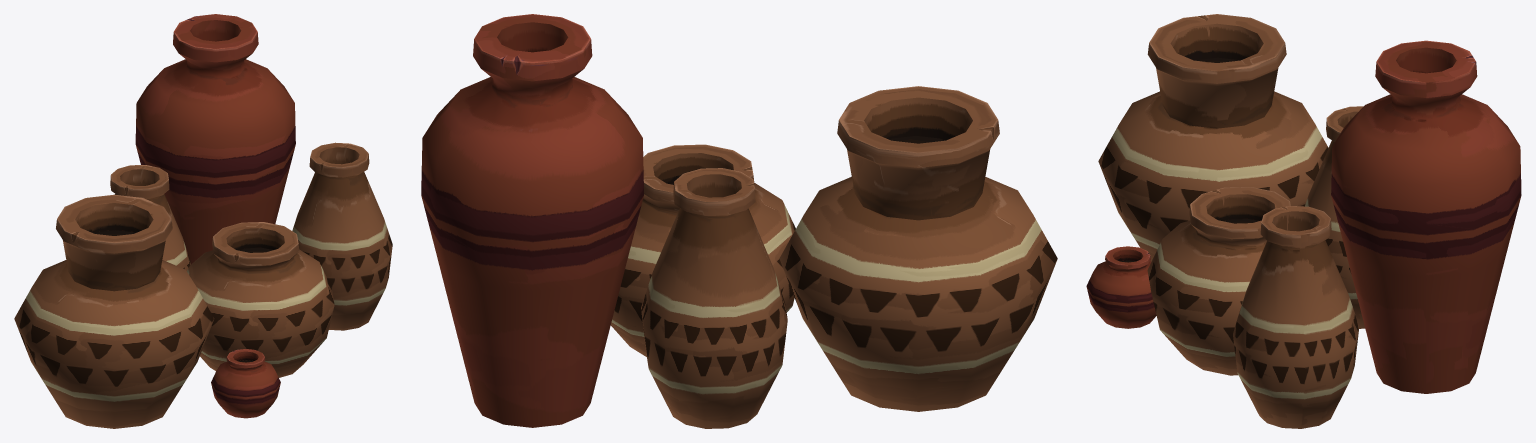
The model's file is RoomsObstacle1.fbx.
3 renders of one model, left to right at view 1: azimuth 30°, elevation 25°; view 2: azimuth 150°, elevation 25°; view 3: azimuth 270°, elevation 25°, orthographic. The views are drawn at different scales.
Visible parts, largest first — view 1: SM_PROP_pot_dungeon_03.003; view 2: SM_PROP_pot_dungeon_03.003; view 3: SM_PROP_pot_dungeon_03.003.
Part boxes in pixels (x1,y1,x2,y2): SM_PROP_pot_dungeon_03.003: (14,14,392,428); SM_PROP_pot_dungeon_03.003: (421,14,1057,428); SM_PROP_pot_dungeon_03.003: (1086,14,1521,428).
Bounding box in the file's own units: 2.62 × 1.69 × 2.12.
2 materials, 2 textured.
